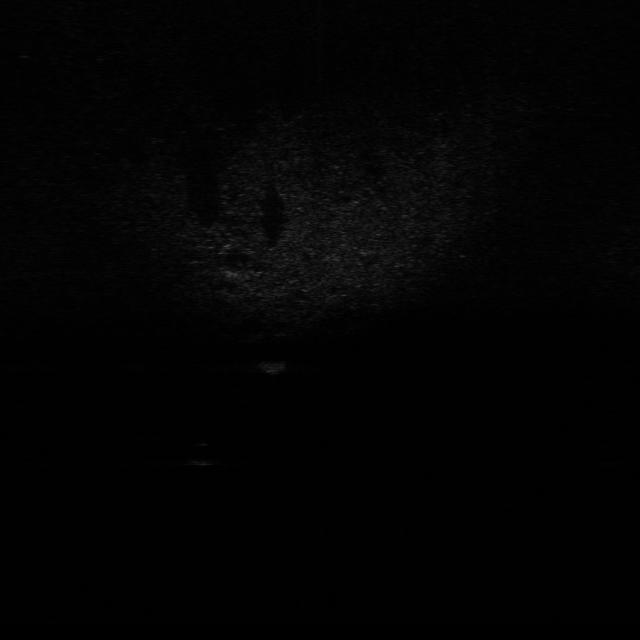ball: (183, 440, 224, 469)
cube: (257, 353, 291, 378)
